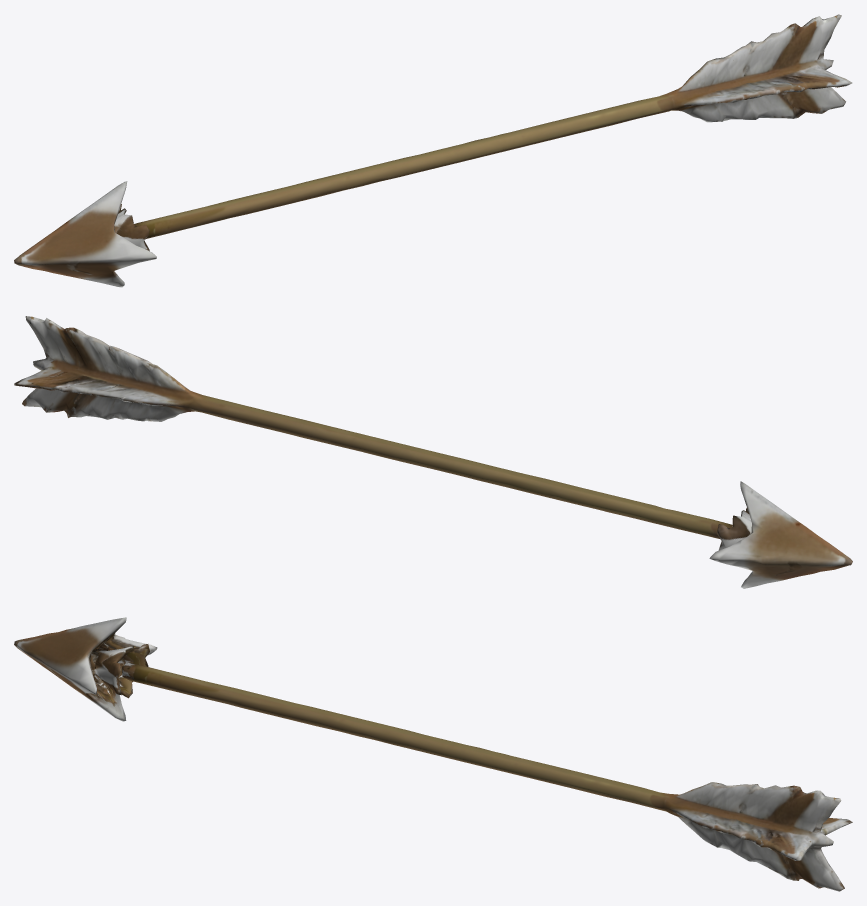
Rendered from Meshy_Model_Import0001.fbx.
3 renders of one model, top to bottom at view 1: azimuth 30°, elevation 25°; view 2: azimuth 150°, elevation 25°; view 3: azimuth 330°, elevation 25°, orthographic.
Parts seen in each view (by area): view 1: Mesh1.0; view 2: Mesh1.0; view 3: Mesh1.0.
Boxes of the visible parts, x1,y1,x2,y2 form: Mesh1.0: (14, 14, 852, 287); Mesh1.0: (14, 316, 852, 588); Mesh1.0: (14, 617, 852, 891).
Size of the model in its own units: 193 by 23.55 by 25.11.
Materials: 1 (1 with a texture image).
